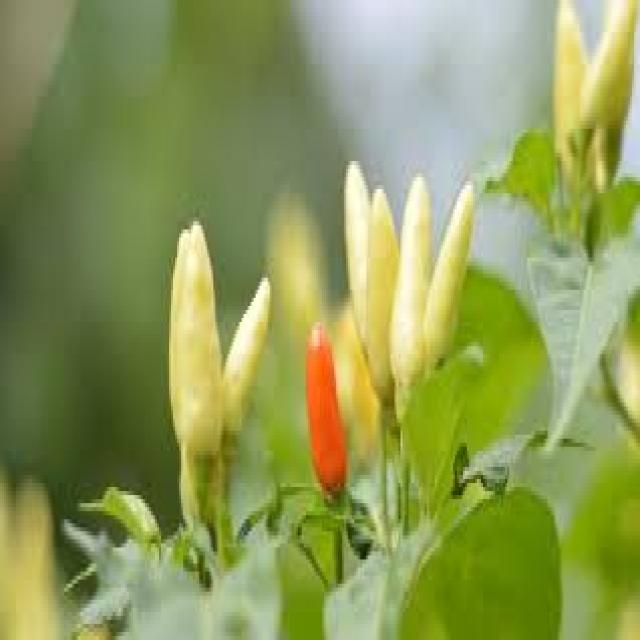Mosaic_virus: (94, 156, 640, 640)
